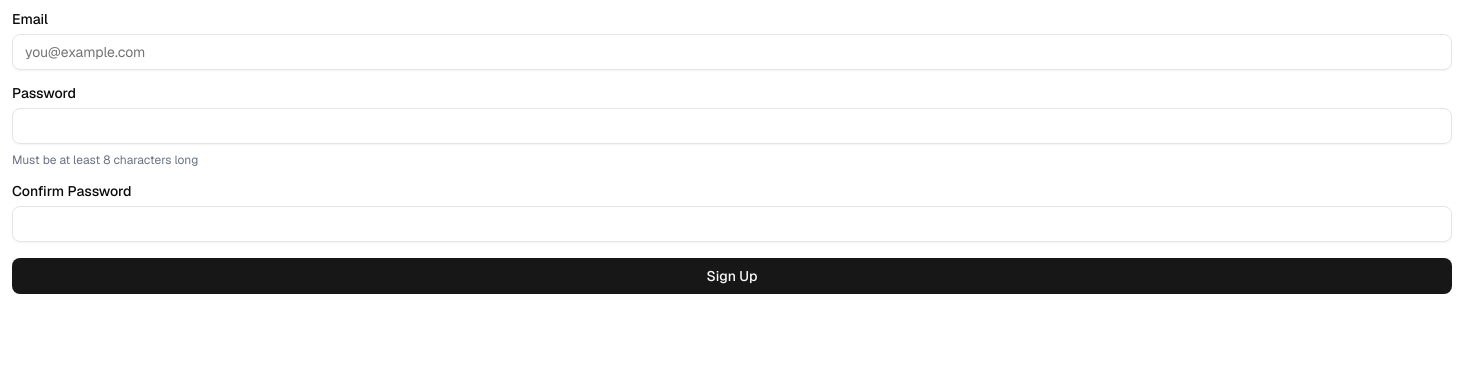
Scenario: displays error when sign-up fails
Type "existing@example.com" into the field labelled "Email".
click(732, 52); type("existing@example.com")  # box [12, 34, 1452, 70]
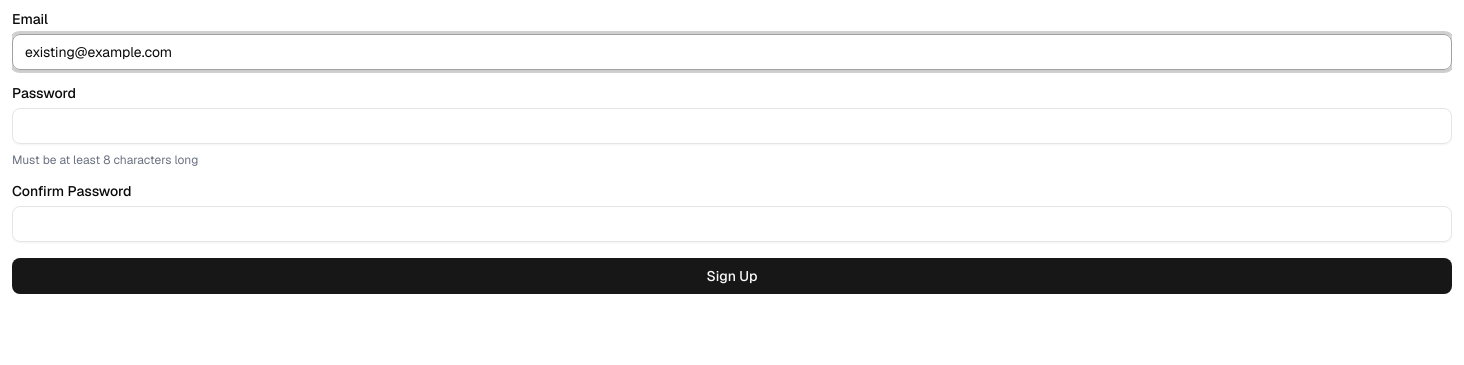
Type "password123" into the password field labelled "Password".
click(732, 126); type("password123")  # box [12, 108, 1452, 144]
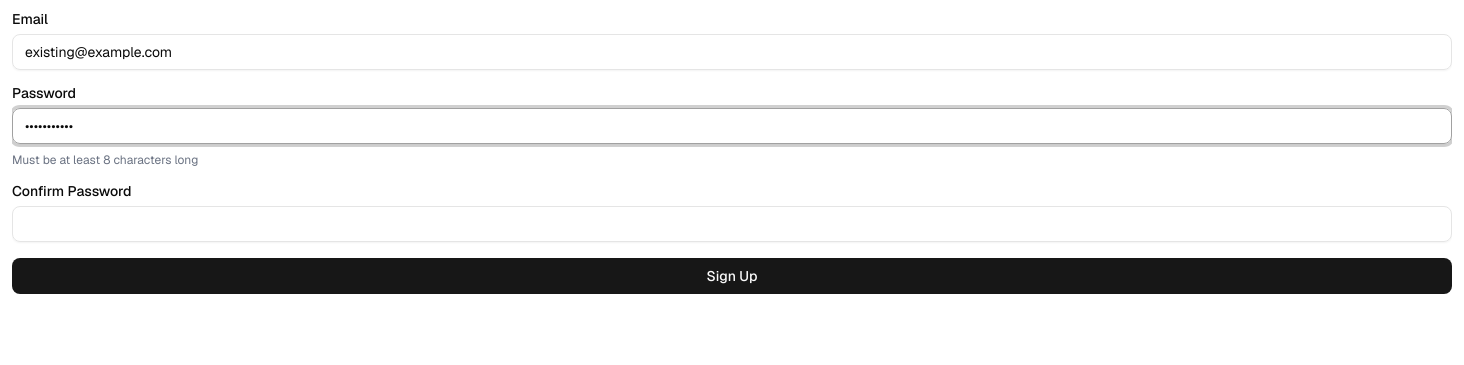
Type "password123" into the password field labelled "Confirm Password".
click(732, 224); type("password123")  # box [12, 206, 1452, 242]
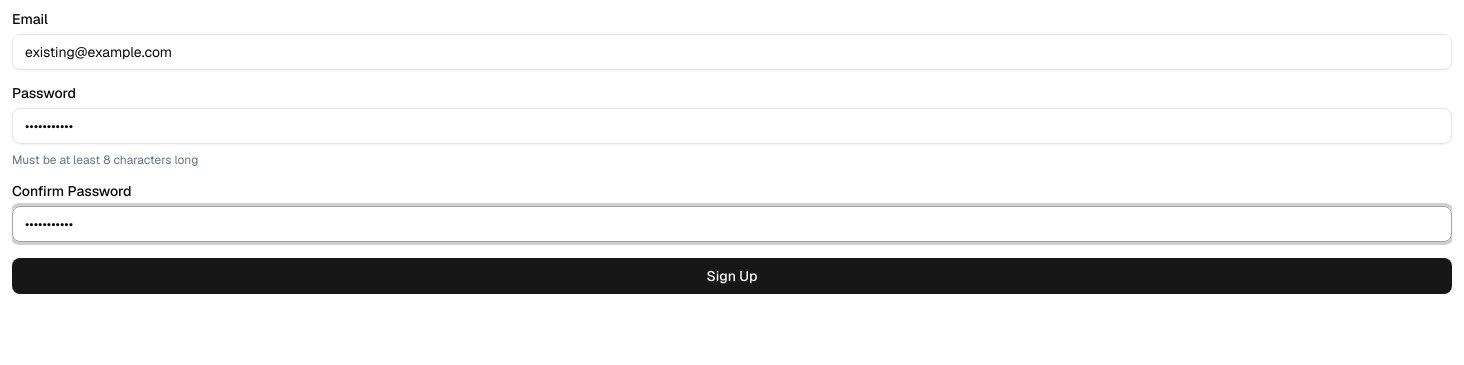
Submit the form "Sign Up"
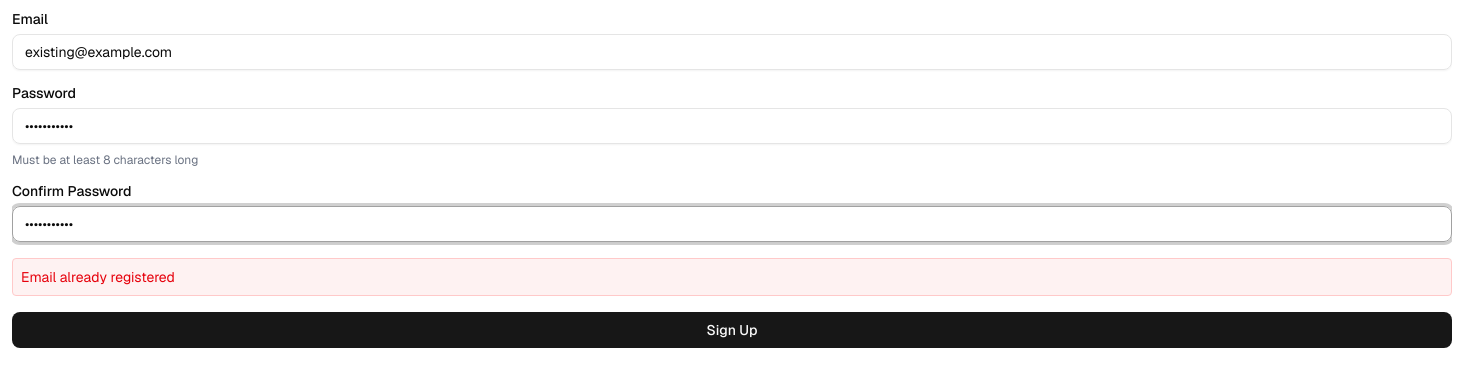
Expected: the text "Email already registered" is shown, [12, 258, 1452, 296]
